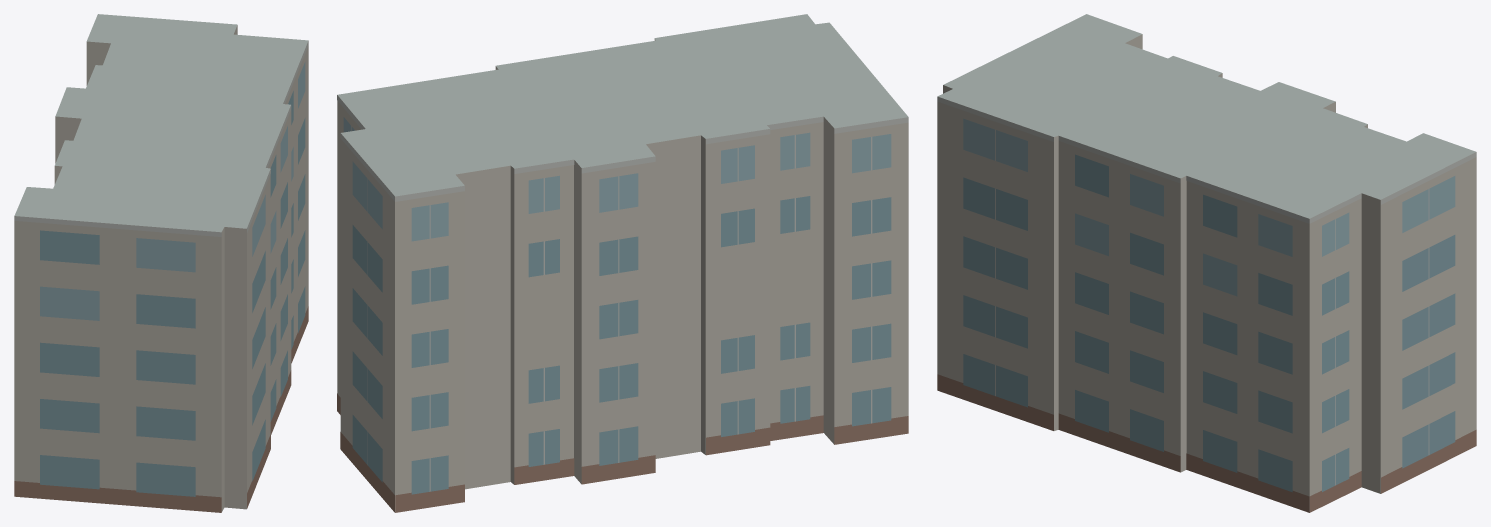
File: survey-upis-32591536.glb
3 renders of one model, left to right at view 1: azimuth 30°, elevation 25°; view 2: azimuth 150°, elevation 25°; view 3: azimuth 270°, elevation 25°, orthographic. The views are drawn at different scales.
Parts seen in each view (by area): view 1: survey-upis-32591536.tmp; view 2: survey-upis-32591536.tmp; view 3: survey-upis-32591536.tmp.
Part boxes in pixels (x1,y1,x2,y2): survey-upis-32591536.tmp: [14, 14, 308, 512]; survey-upis-32591536.tmp: [337, 14, 908, 512]; survey-upis-32591536.tmp: [937, 14, 1476, 512].
Bounding box in the file's own units: 21.22 × 14.2 × 23.61.
